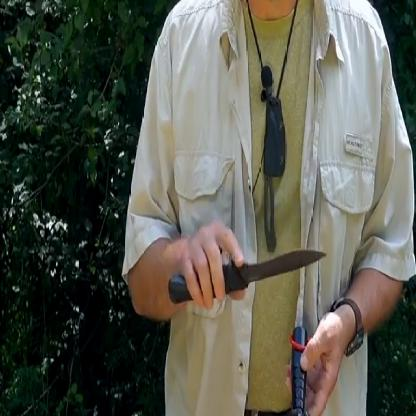knife: (166, 211, 330, 308)
